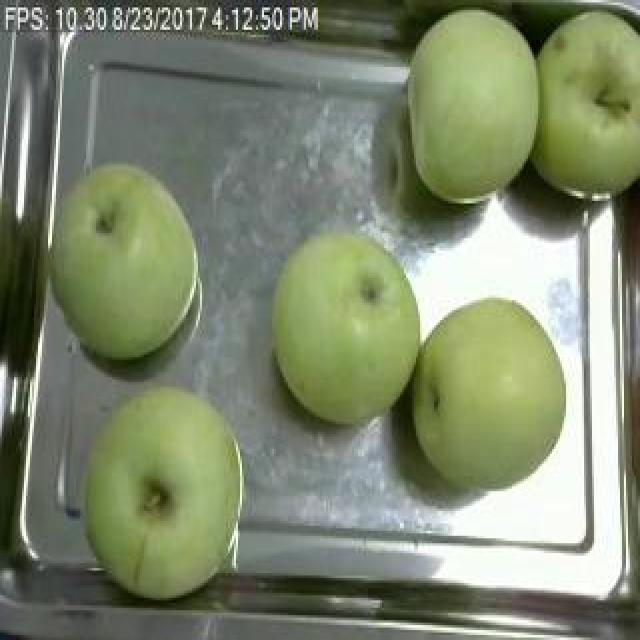Rotten Apple: (89, 377, 253, 603), (52, 162, 220, 378), (260, 214, 420, 426), (388, 8, 556, 208), (423, 294, 571, 512), (534, 10, 640, 203)
